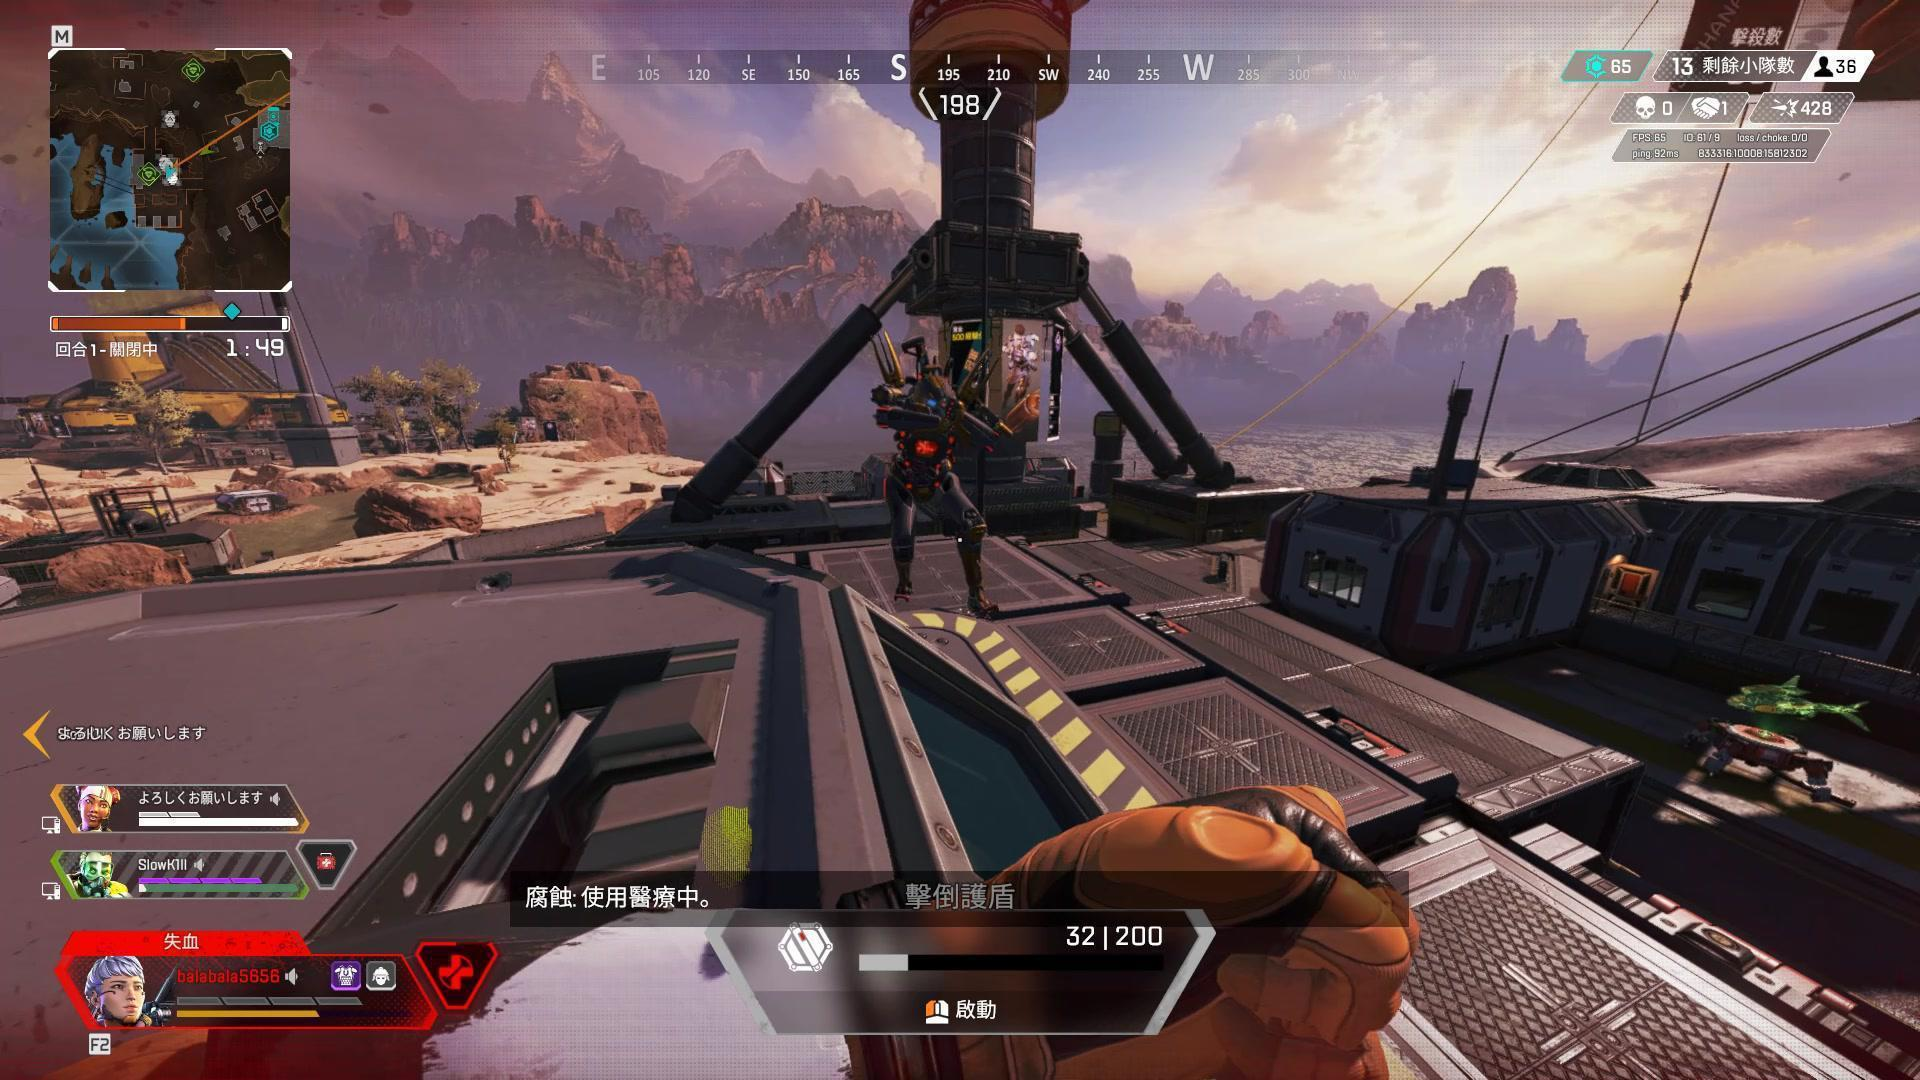avatar: (866, 367, 1003, 621)
